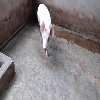heo: (35, 4, 58, 60)
